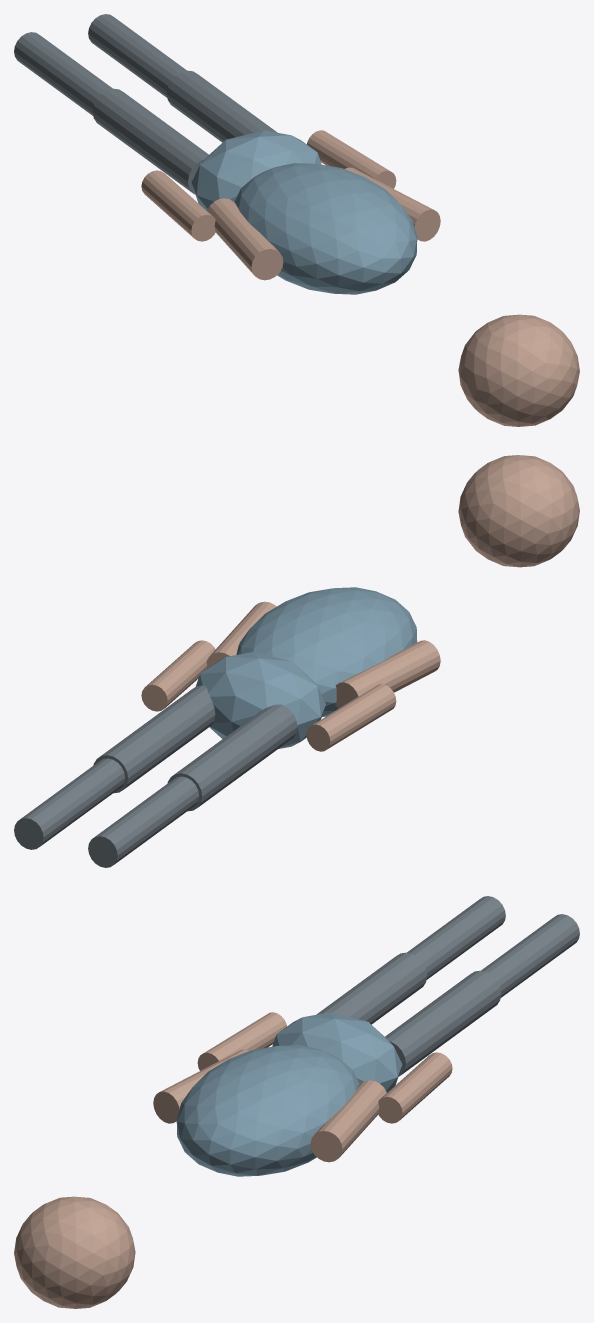
Rendered from adolescent-medium.glb.
3 renders of one model, top to bottom at view 1: azimuth 30°, elevation 25°; view 2: azimuth 150°, elevation 25°; view 3: azimuth 330°, elevation 25°, orthographic.
Visible parts, largest first — view 1: torso, head, pelvis, left_thigh, right_thigh, left_lower_leg, right_lower_leg, left_upper_arm, left_forearm, right_forearm, right_upper_arm; view 2: torso, head, pelvis, left_thigh, right_thigh, left_lower_leg, right_lower_leg, left_upper_arm, left_forearm, right_forearm, right_upper_arm; view 3: torso, head, pelvis, right_thigh, left_thigh, left_lower_leg, right_lower_leg, right_upper_arm, right_forearm, left_forearm, left_upper_arm.
Boxes of the visible parts, bbox=[...] form: torso: bbox=[234, 163, 417, 294]; head: bbox=[458, 314, 579, 426]; pelvis: bbox=[191, 130, 321, 210]; left_thigh: bbox=[92, 88, 208, 194]; right_thigh: bbox=[166, 70, 277, 142]; left_lower_leg: bbox=[14, 32, 112, 115]; right_lower_leg: bbox=[88, 14, 186, 97]; left_upper_arm: bbox=[207, 198, 283, 280]; left_forearm: bbox=[141, 170, 215, 241]; right_forearm: bbox=[307, 130, 396, 188]; right_upper_arm: bbox=[345, 167, 440, 241]; torso: bbox=[236, 587, 417, 716]; head: bbox=[458, 455, 579, 567]; pelvis: bbox=[195, 652, 325, 748]; left_thigh: bbox=[167, 704, 297, 811]; right_thigh: bbox=[93, 685, 215, 793]; left_lower_leg: bbox=[88, 776, 199, 867]; right_lower_leg: bbox=[14, 758, 125, 849]; left_upper_arm: bbox=[335, 640, 440, 708]; left_forearm: bbox=[306, 684, 396, 751]; right_forearm: bbox=[141, 640, 215, 711]; right_upper_arm: bbox=[206, 601, 276, 668]; torso: bbox=[176, 1045, 359, 1176]; head: bbox=[14, 1196, 135, 1308]; pelvis: bbox=[272, 1012, 402, 1092]; right_thigh: bbox=[385, 970, 501, 1076]; left_thigh: bbox=[316, 952, 427, 1024]; left_lower_leg: bbox=[407, 896, 505, 979]; right_lower_leg: bbox=[481, 914, 579, 997]; right_upper_arm: bbox=[310, 1080, 386, 1162]; right_forearm: bbox=[378, 1052, 452, 1123]; left_forearm: bbox=[197, 1012, 286, 1070]; left_upper_arm: bbox=[153, 1049, 248, 1123].
Size of the model in its own units: 1.25 by 0.5888 by 5.09.
